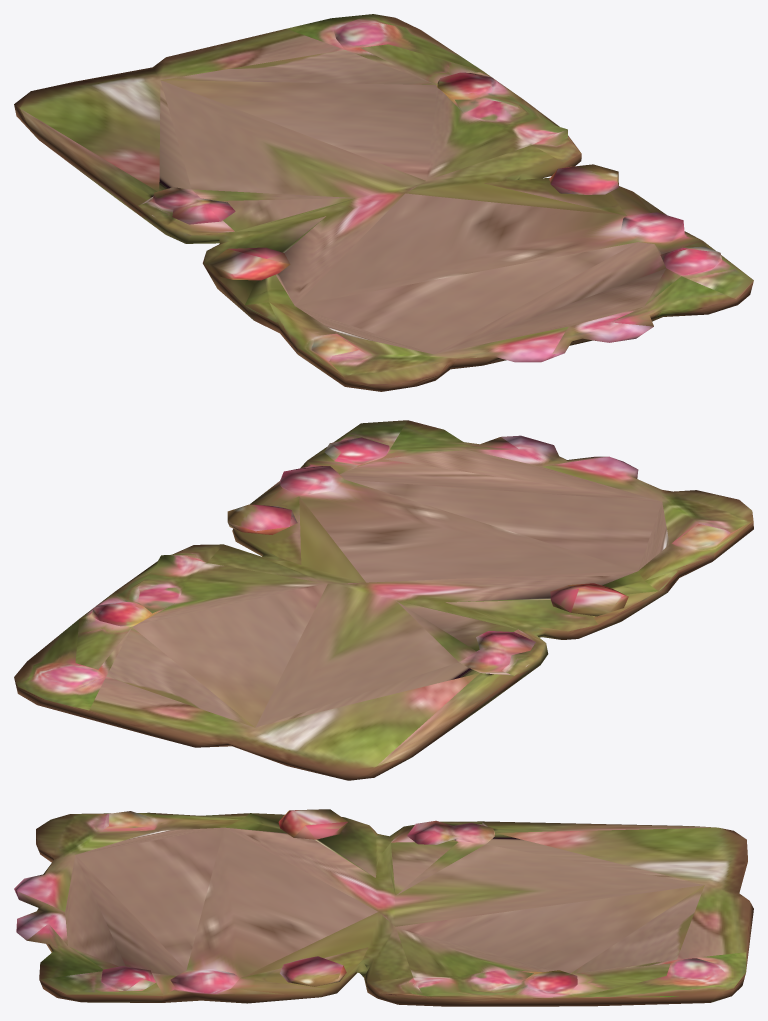
Rendered from CF_Tile_Path.fbx.
3 renders of one model, top to bottom at view 1: azimuth 30°, elevation 25°; view 2: azimuth 150°, elevation 25°; view 3: azimuth 270°, elevation 25°, orthographic. The views are drawn at different scales.
Parts seen in each view (by area): view 1: CF_Tile_Path; view 2: CF_Tile_Path; view 3: CF_Tile_Path.
Boxes of the visible parts, x1,y1,x2,y2 form: CF_Tile_Path: (14, 14, 753, 391); CF_Tile_Path: (14, 420, 753, 780); CF_Tile_Path: (14, 809, 753, 1006).
Bounding box in the file's own units: 5.99 × 0.2942 × 10.02.
